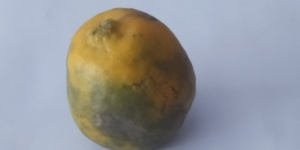BAD: (67, 7, 199, 150)
